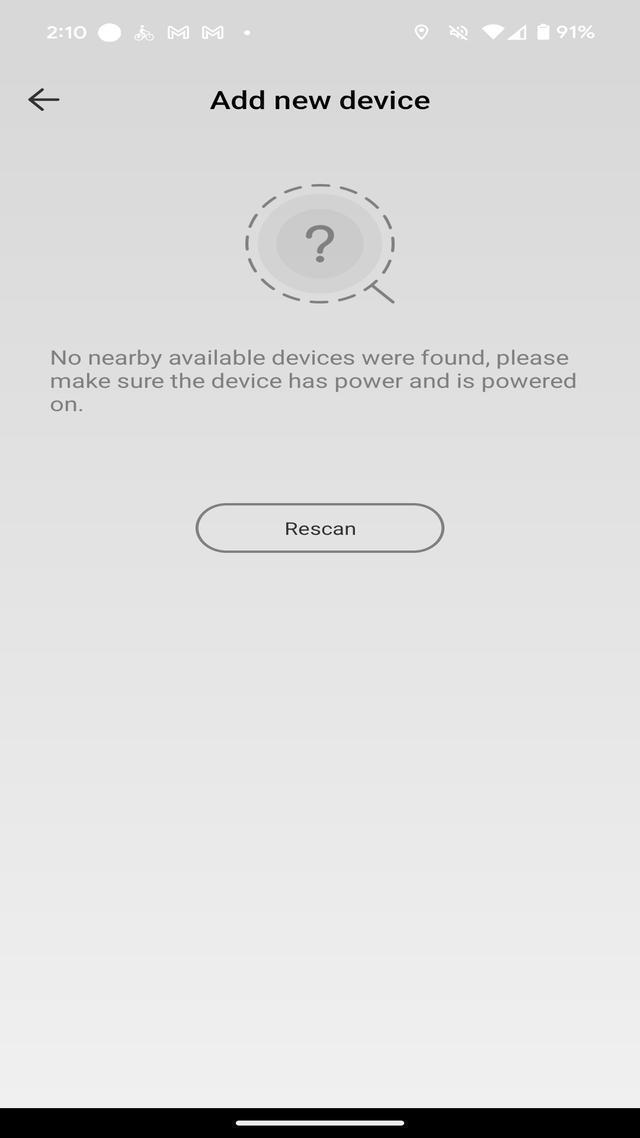Icon: (202, 141, 440, 334), (28, 88, 62, 121), (95, 22, 124, 44), (200, 23, 228, 45), (164, 22, 192, 44), (448, 22, 471, 44), (480, 21, 506, 40), (135, 23, 157, 42), (414, 25, 431, 46), (535, 21, 551, 42), (509, 23, 528, 40), (238, 25, 256, 38)
Image: (236, 173, 408, 310)
Text: (49, 372, 582, 396), (49, 349, 578, 372), (205, 82, 438, 116), (277, 516, 368, 541), (44, 19, 92, 45), (555, 20, 599, 44), (47, 398, 90, 415)
TextButton: (197, 502, 446, 552)
